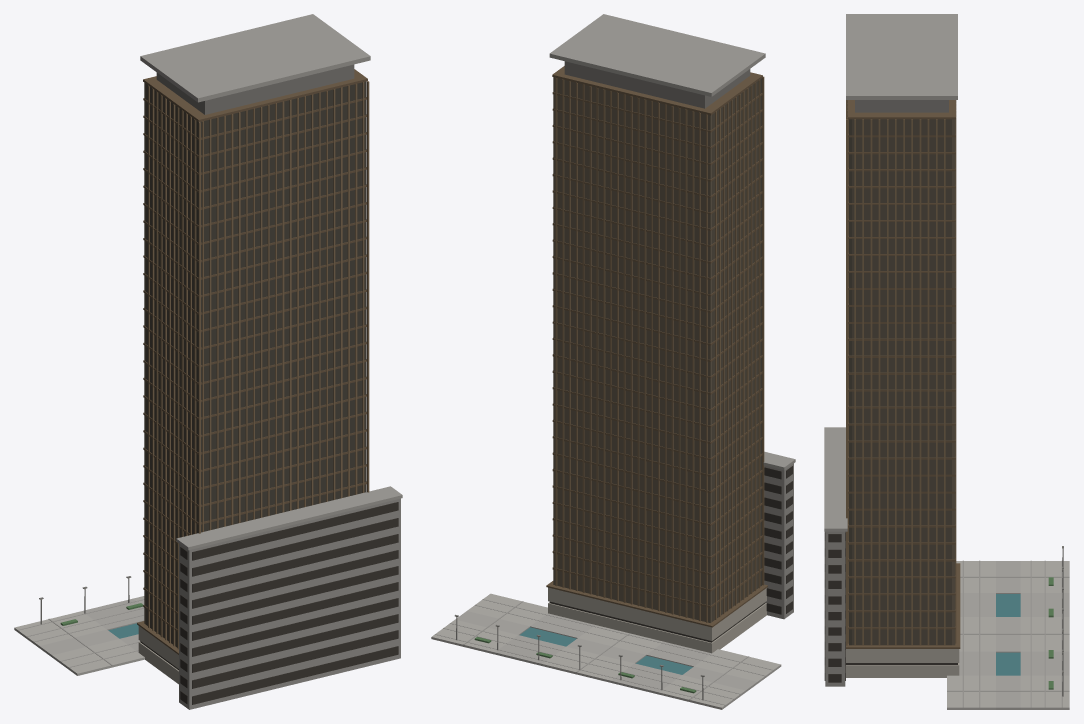
Rendered from seagram.glb.
3 views of the same model, side by side, from view 1: azimuth 30°, elevation 25°; view 2: azimuth 150°, elevation 25°; view 3: azimuth 270°, elevation 25° (orthographic). The views are drawn at different scales.
Visible parts, largest first — view 1: seagram; view 2: seagram; view 3: seagram.
Boxes of the visible parts, box(x1,y1,x2,y2) form: seagram: box(14, 14, 402, 709); seagram: box(431, 14, 795, 709); seagram: box(824, 14, 1069, 709).
Size of the model in its own units: 85 by 157 by 60.
